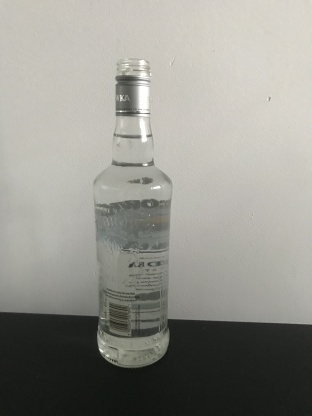nakretka: (113, 57, 152, 118)
